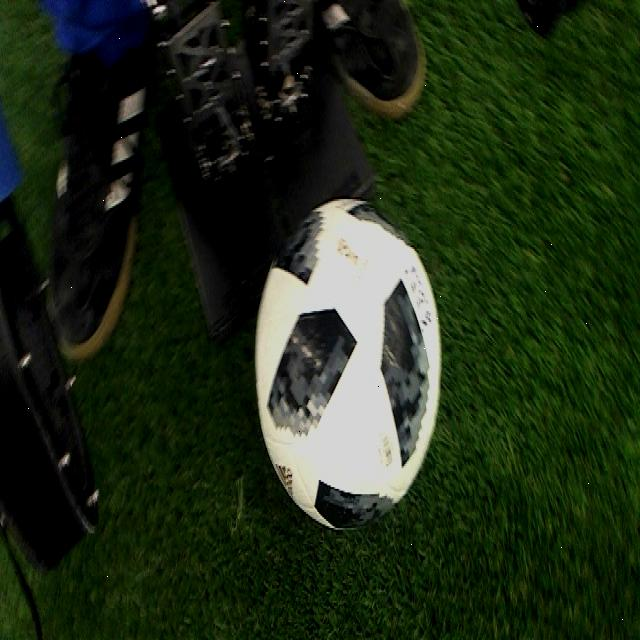ball: (253, 196, 444, 532)
